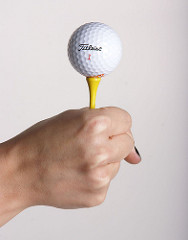fist: (36, 107, 136, 209)
